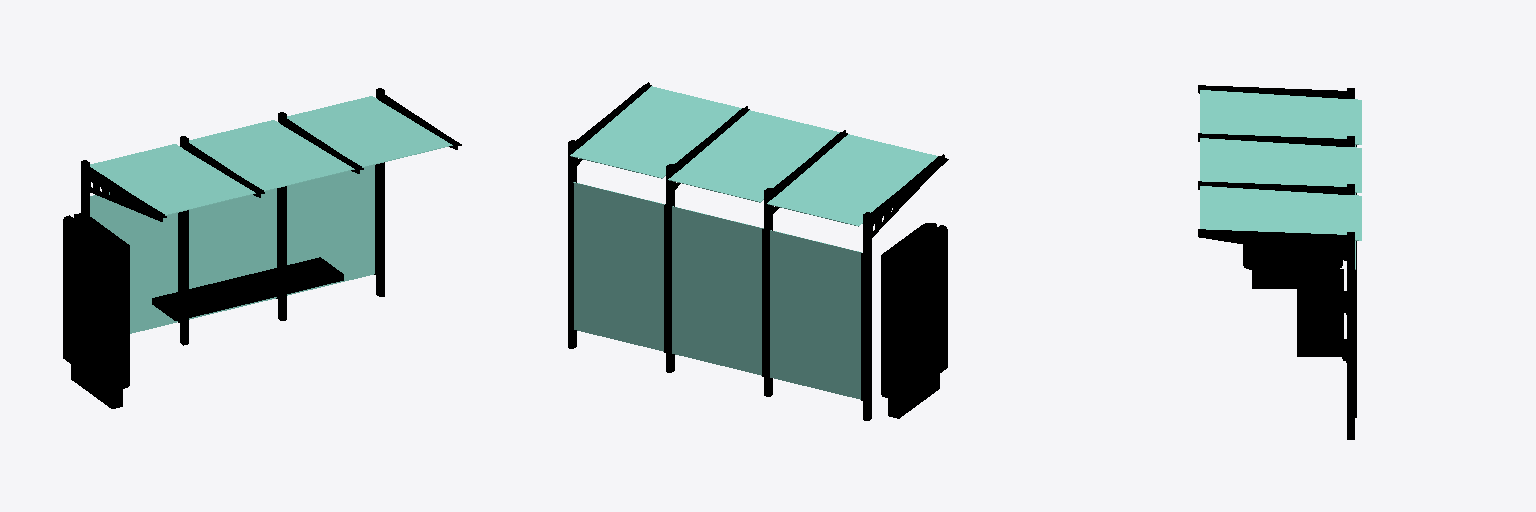
File: Bus_Stop_by_Peter_Iliev_obj.obj
The picture shows the model from 3 angles: view 1: azimuth 30°, elevation 25°; view 2: azimuth 150°, elevation 25°; view 3: azimuth 270°, elevation 25°; orthographic projection.
Visible parts, largest first — view 1: Object011, Object012, Box014, Object009, Object008, Object007, Object013, Box001, Object010, Box018, Object003, Object004 (+2 smaller); view 2: Object013, Object011, Object012, Object009, Object008, Object007, Box014, Object010, Object006, Box018, Object003, Object002 (+4 smaller); view 3: Object009, Object008, Object007, Box001, Box015, Object003, Box014, Object002, Box018, Box017, Box016, Object010.
Boxes of the visible parts, x1,y1,x2,y2 form: Object011: [287, 165, 374, 295]; Object012: [189, 189, 276, 319]; Box014: [63, 213, 129, 390]; Object009: [90, 144, 255, 215]; Object008: [189, 120, 354, 191]; Object007: [287, 96, 452, 167]; Object013: [90, 192, 177, 333]; Box001: [152, 257, 343, 320]; Object010: [72, 235, 100, 374]; Box018: [82, 166, 166, 221]; Object003: [376, 88, 384, 296]; Object004: [278, 112, 286, 320]; Object013: [770, 230, 861, 399]; Object011: [573, 182, 664, 351]; Object012: [672, 206, 763, 375]; Object009: [767, 134, 937, 226]; Object008: [668, 110, 839, 202]; Object007: [570, 86, 741, 178]; Box014: [881, 223, 947, 399]; Object010: [910, 244, 938, 383]; Object006: [863, 212, 871, 420]; Box018: [871, 154, 948, 237]; Object003: [568, 140, 576, 348]; Object002: [888, 374, 939, 418]; Object009: [1200, 90, 1361, 144]; Object008: [1200, 138, 1361, 192]; Object007: [1200, 186, 1361, 240]; Box001: [1297, 269, 1343, 356]; Box015: [1198, 229, 1346, 260]; Object003: [1347, 232, 1354, 439]; Box014: [1243, 245, 1342, 269]; Object002: [1252, 270, 1296, 288]; Box018: [1198, 85, 1346, 96]; Box017: [1198, 133, 1346, 144]; Box016: [1198, 181, 1346, 192]; Object010: [1261, 245, 1324, 260].
Size of the model in its own units: 440 by 267 by 189.